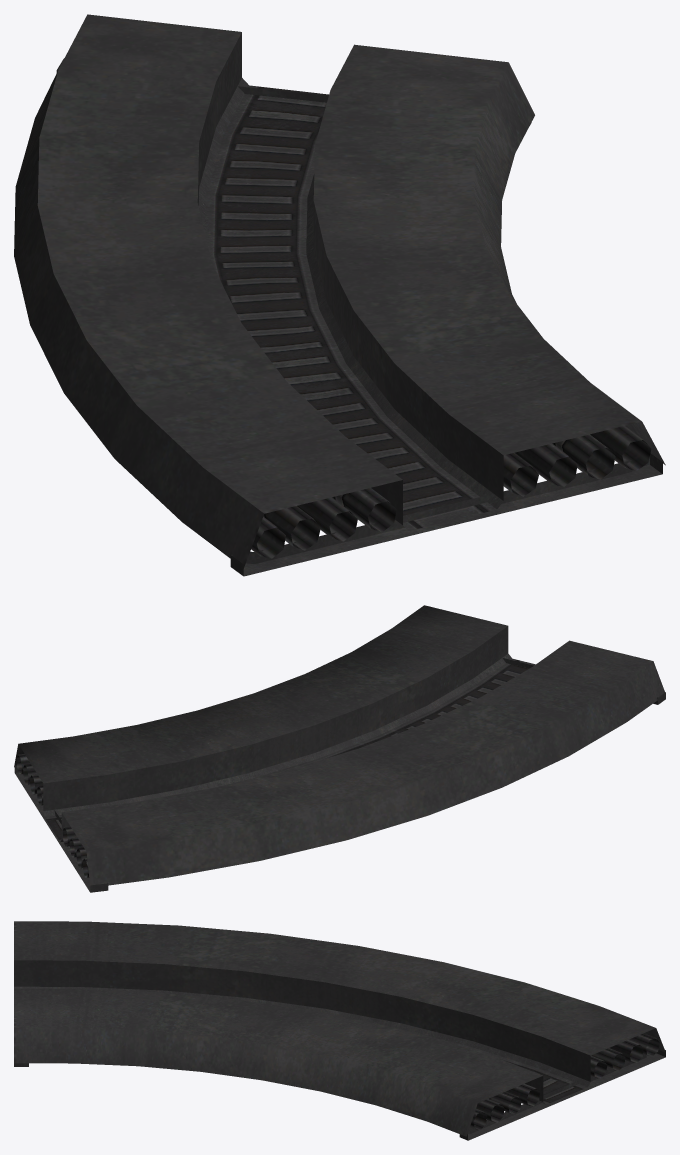
Rendered from lab_cable_ladder_turn_45_outer.dae.
3 renders of one model, top to bottom at view 1: azimuth 30°, elevation 25°; view 2: azimuth 150°, elevation 25°; view 3: azimuth 270°, elevation 25°, orthographic. The views are drawn at different scales.
Parts seen in each view (by area): view 1: lab_cable_ladder_turn_45_outer; view 2: lab_cable_ladder_turn_45_outer; view 3: lab_cable_ladder_turn_45_outer.
Part boxes in pixels (box(x1,y1,x2,y2)): lab_cable_ladder_turn_45_outer: box(14, 14, 665, 576); lab_cable_ladder_turn_45_outer: box(14, 605, 665, 892); lab_cable_ladder_turn_45_outer: box(14, 921, 665, 1140).
Size of the model in its own units: 2.97 by 0.2398 by 4.24.
